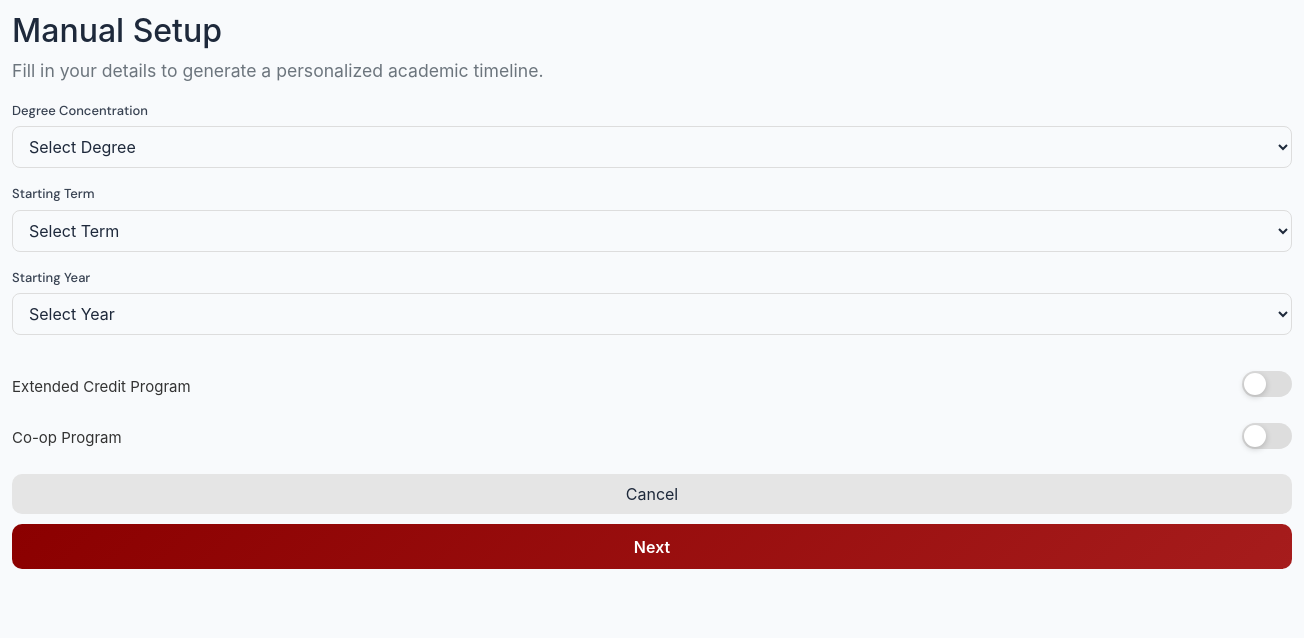
Scenario: InformationForm › shows predefined co-op sequence checkbox when co-op is checked and term is Fall
Select "Software Engineering" in the dropdown labelled "Degree Concentration" at (652, 147), box x1=12 y1=126 x2=1292 y2=168
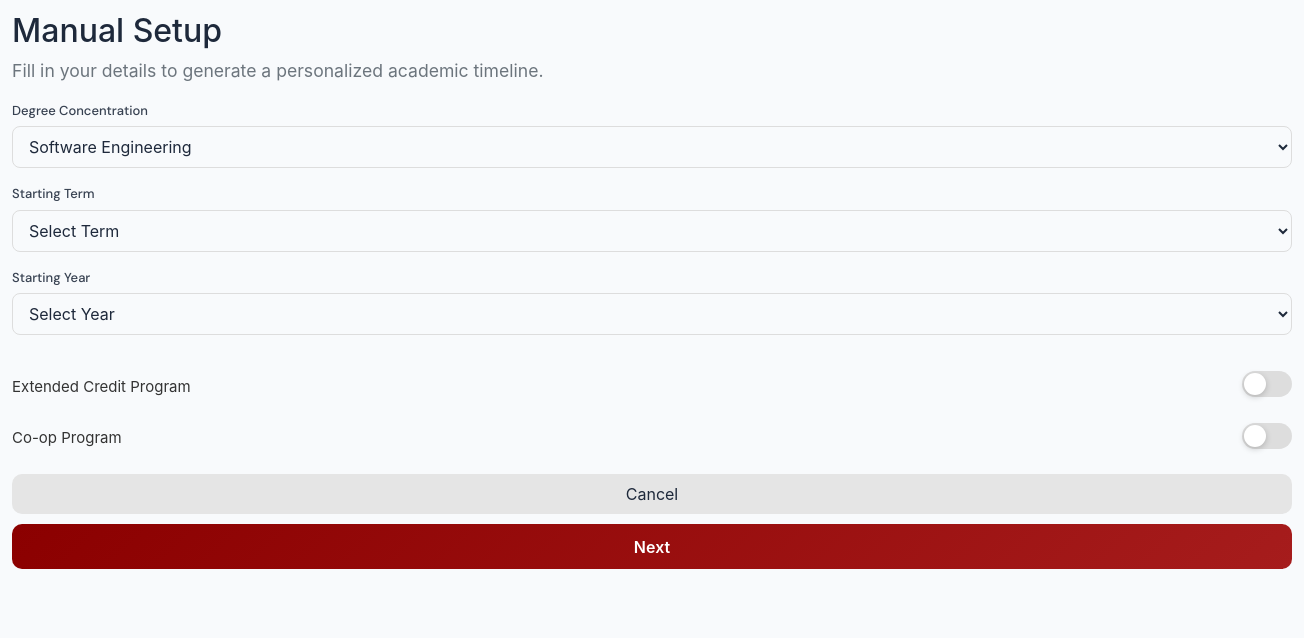
Select "Fall" in the dropdown labelled "Starting Term" at (652, 231), box x1=12 y1=210 x2=1292 y2=252
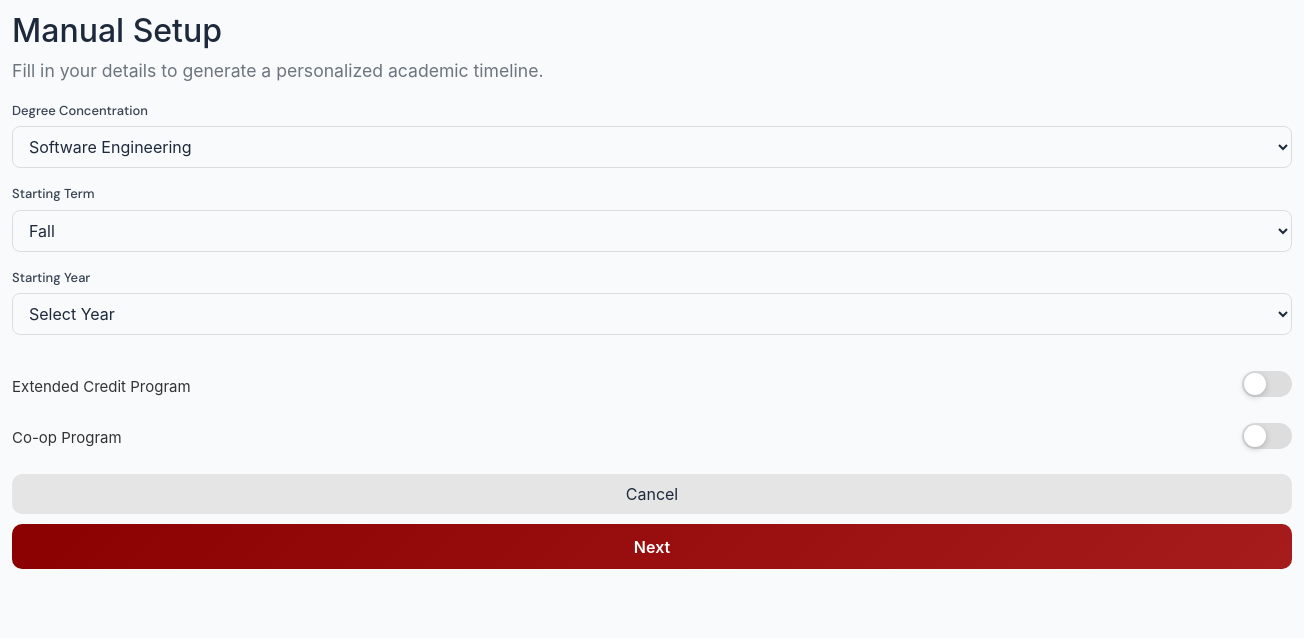
Select "2023" in the dropdown labelled "Starting Year" at (652, 314), box x1=12 y1=293 x2=1292 y2=335
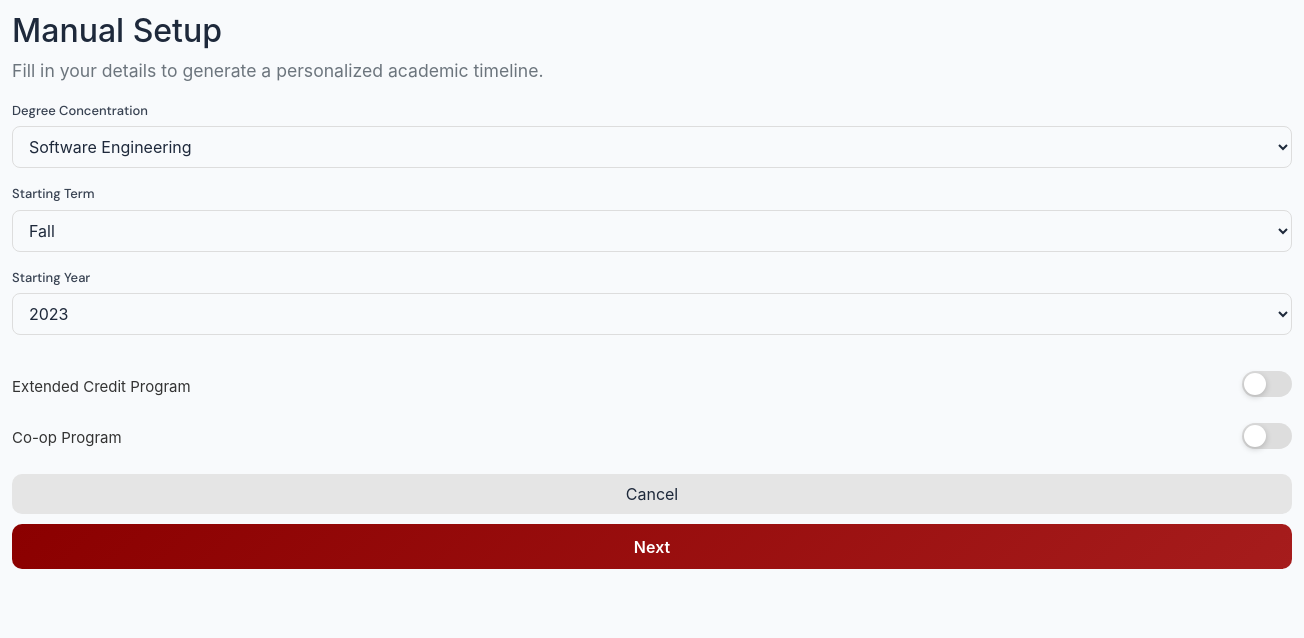
Click the checkbox named "Co-op Program?".
click(1267, 436)  # box x1=1242 y1=423 x2=1292 y2=449
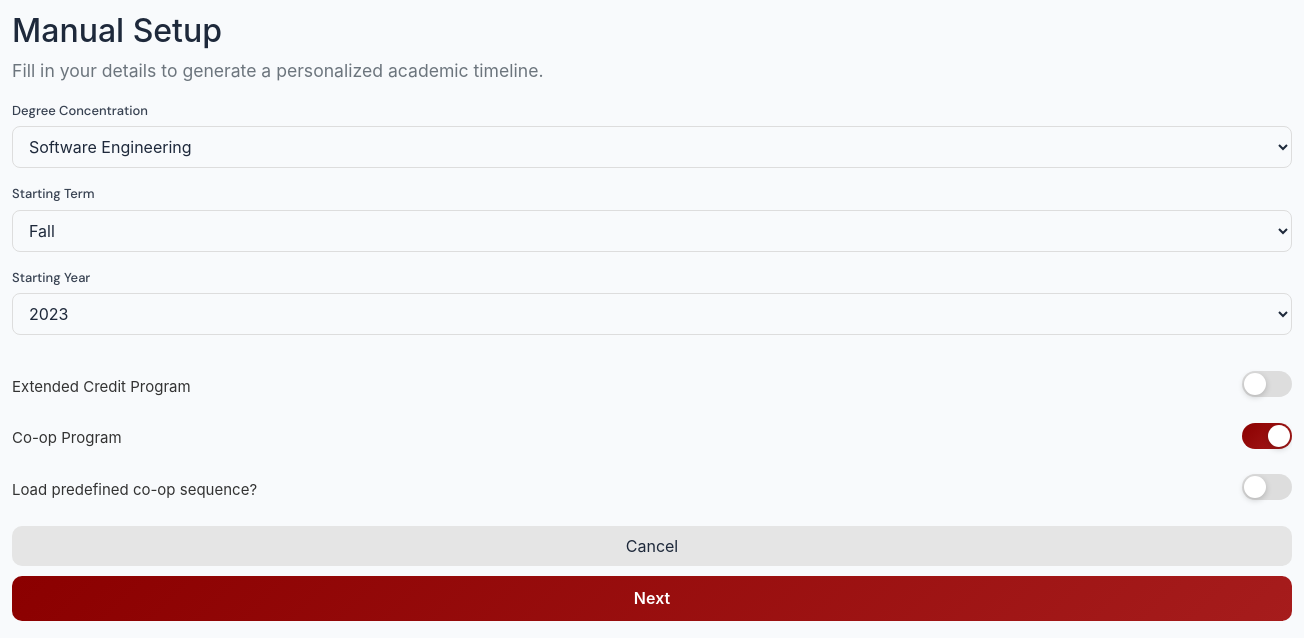
Expected: the checkbox named "Load predefined co-op sequence?" is shown, x1=1242 y1=474 x2=1292 y2=500
